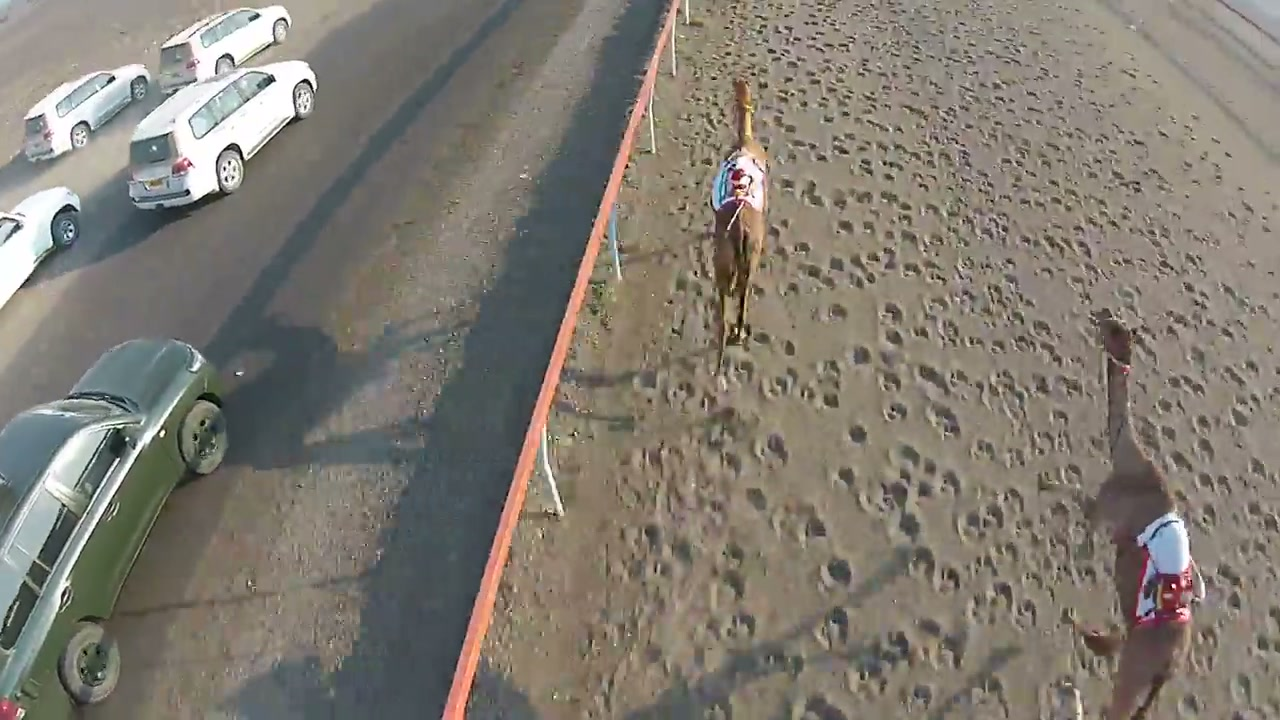animal_footprint: (486, 0, 1279, 719)
